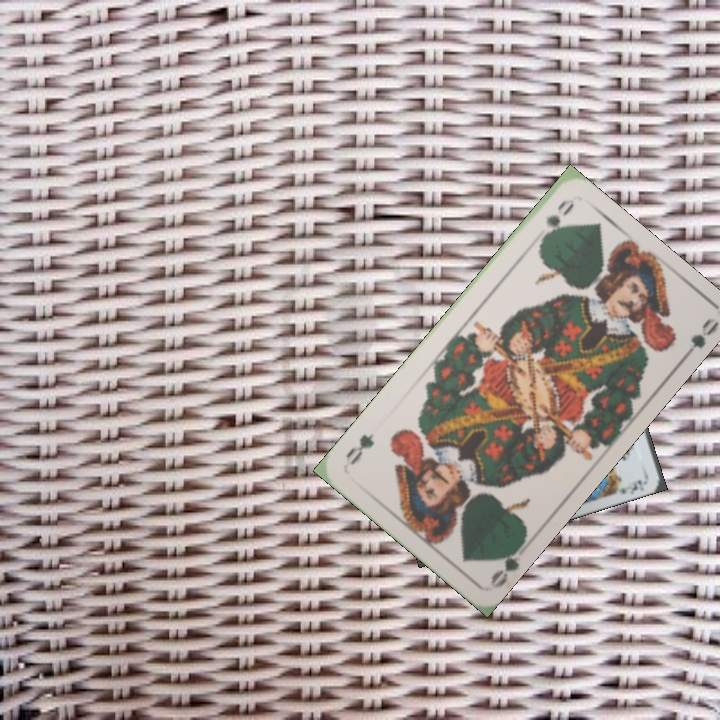GO: (486, 538, 528, 591), (535, 195, 572, 249)
